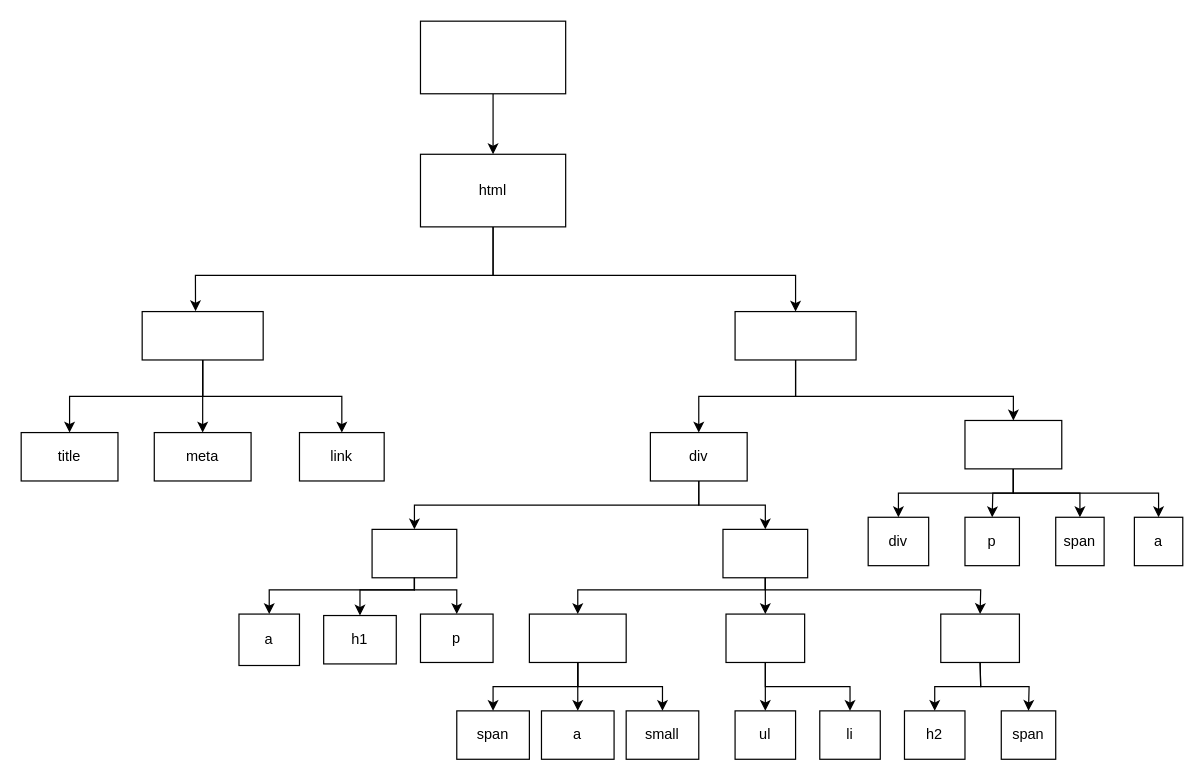
This 1204x780 diagram has some shape labels left out. Here are the shapes that lost their labels. From the top down, the centre of each, then its label:
point (492, 57): Document
point (202, 335): head
point (795, 335): body
point (1013, 444): footer
point (414, 553): div class ="row header-box"
point (765, 553): div class=" row"
point (577, 637): div class="quote"
point (765, 637): nav
point (979, 637): div class="tag box"
